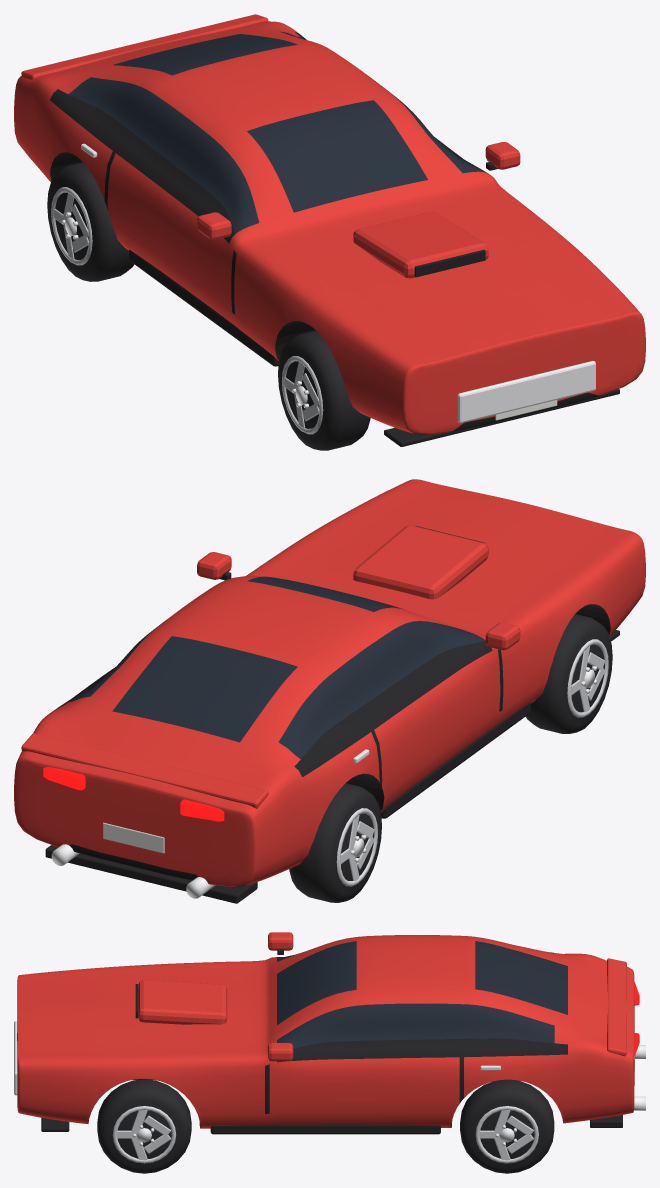
File: brenner_mid.glb
The picture shows the model from 3 angles, top to bottom: view 1: azimuth 30°, elevation 25°; view 2: azimuth 150°, elevation 25°; view 3: azimuth 270°, elevation 25°; orthographic projection. The views are drawn at different scales.
Parts seen in each view (by area): view 1: body, wheel_fr, wheel_rr; view 2: body, wheel_rr, wheel_fr; view 3: body, wheel_fl, wheel_rl.
Part boxes in pixels (box(x1,y1,x2,y2)): body: box(14, 14, 645, 446); wheel_fr: box(278, 330, 370, 450); wheel_rr: box(47, 162, 134, 281); body: box(14, 479, 645, 903); wheel_rr: box(289, 783, 381, 902); wheel_fr: box(525, 614, 612, 733); body: box(14, 932, 645, 1134); wheel_fl: box(97, 1079, 191, 1173); wheel_rl: box(460, 1079, 554, 1173).
Bounding box in the file's own units: 2.22 × 1.4 × 4.96.
